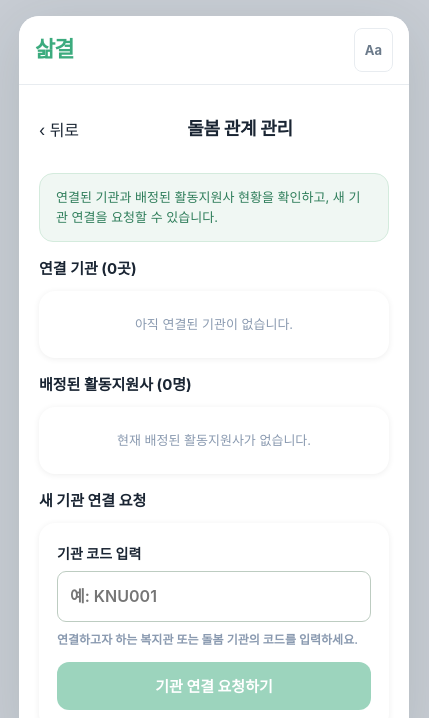
Test: CareRelationsPage › 연결 요청 실패 시 에러 메시지를 표시한다
Step 1. Type "WRONGCODE" into the field named "연결할 기관 코드" → (214, 597), box [57,571,371,622]
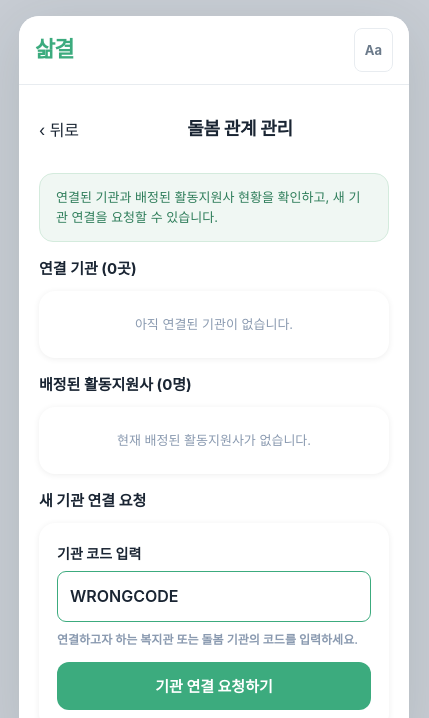
Step 2. Click the button "기관 연결 요청하기" → (214, 686), box [57,662,371,710]
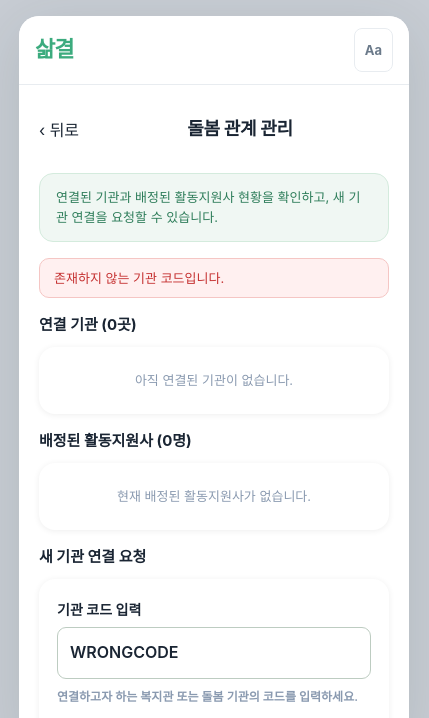
Check: the message reads "존재하지 않는 기관 코드입니다.", box [54,270,224,286]
